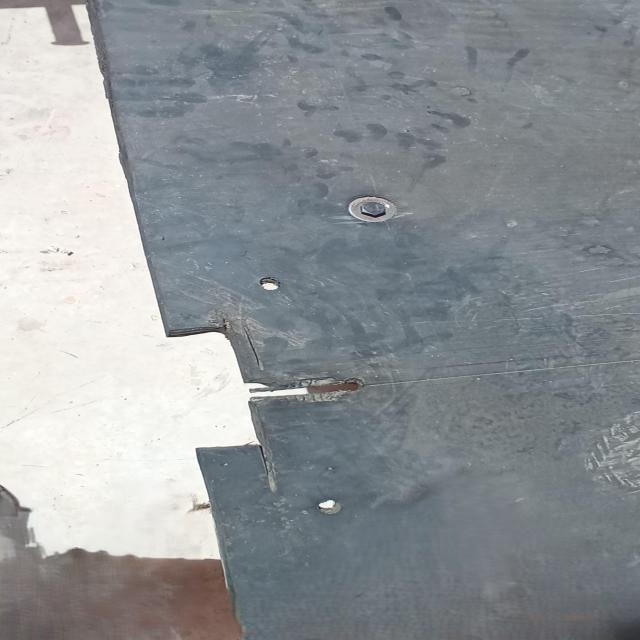Hole: (312, 496, 344, 521), (258, 274, 286, 296)
Tear: (161, 314, 368, 491), (240, 323, 266, 374)
